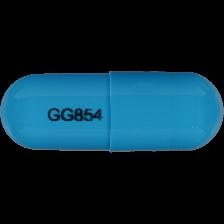0781-2248: (0, 0, 224, 224)
